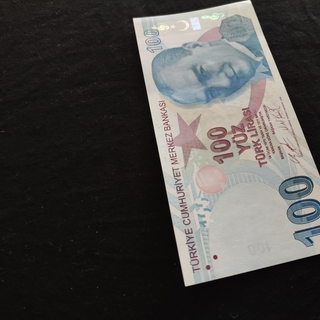100TLFront: (132, 0, 320, 286)
